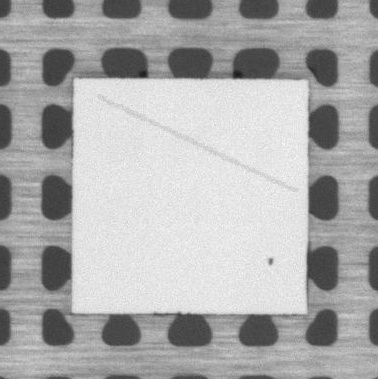DIE_CRACK: (99, 97, 296, 191)
